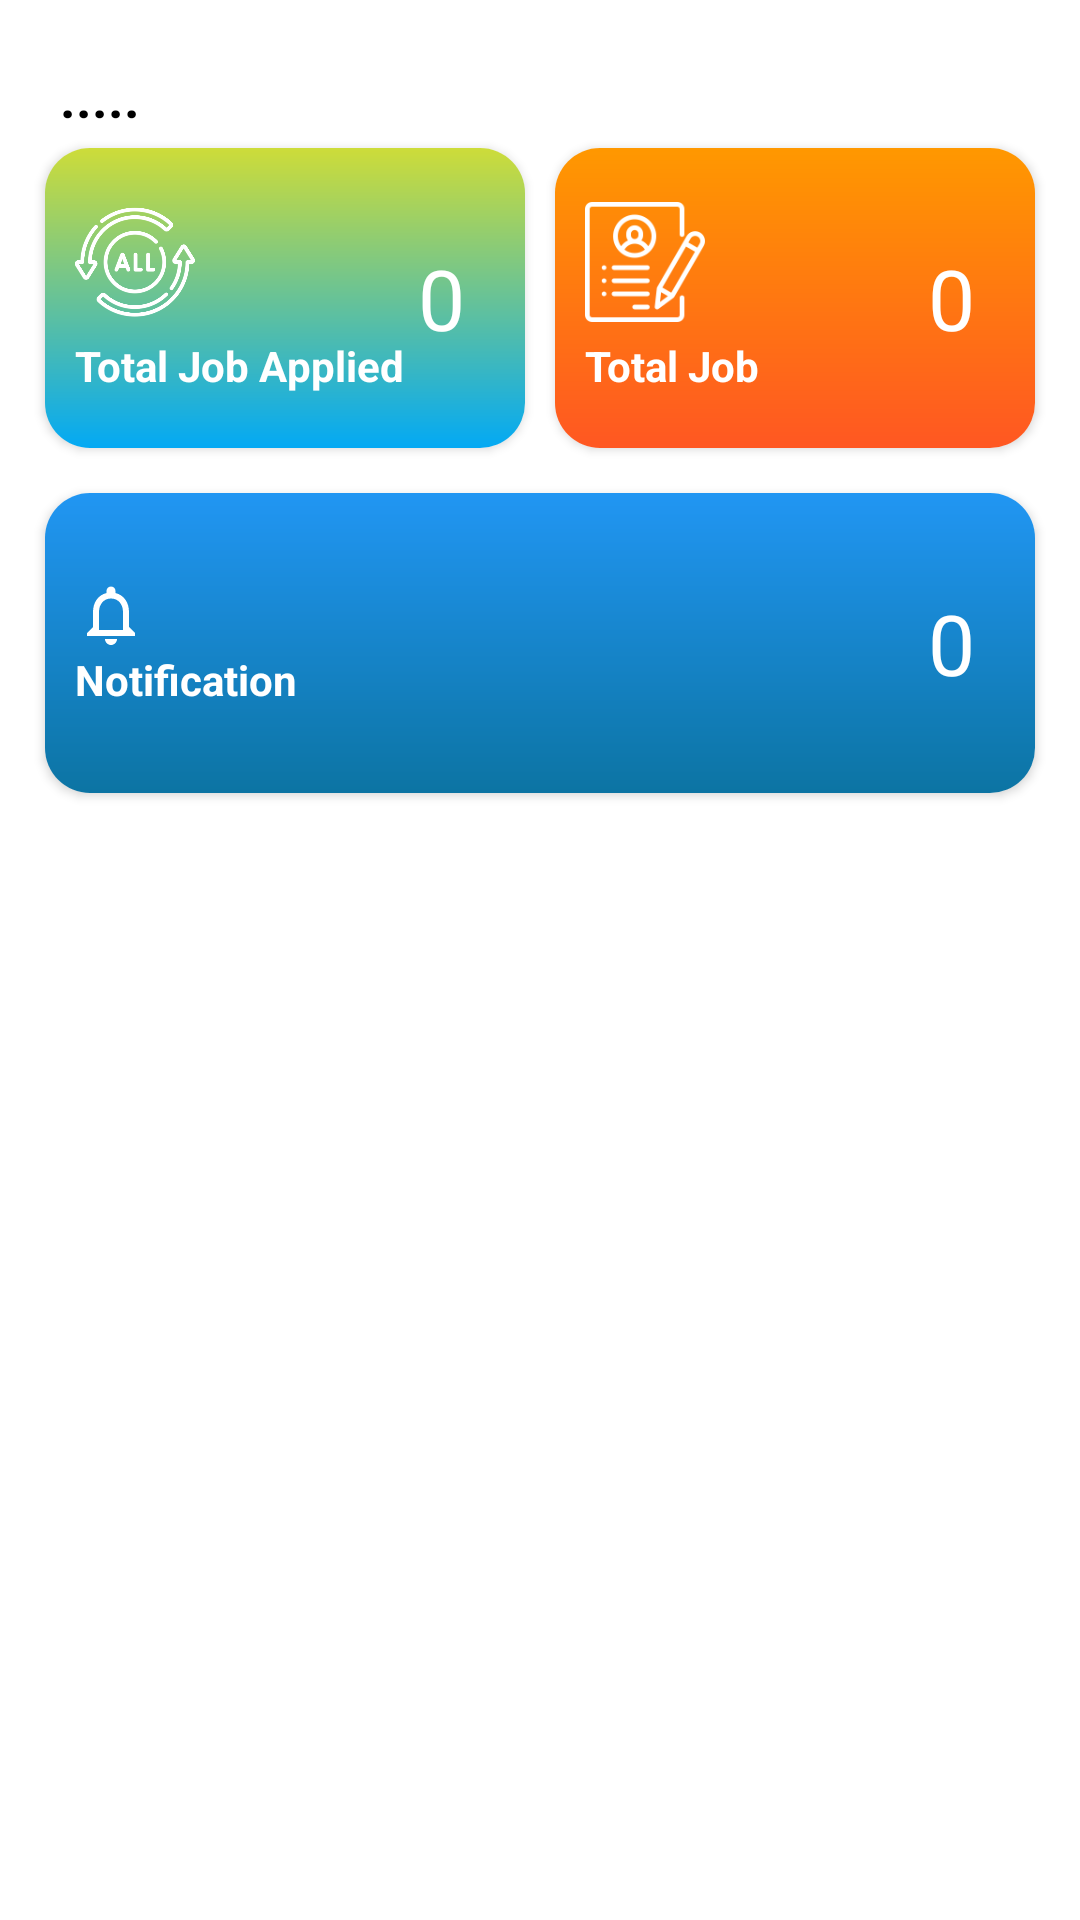

Named icons in this screenshot (1080 x 1920) and their centers, (x=x, y=y):
all: (x=135, y=262)
resume: (x=645, y=262)
